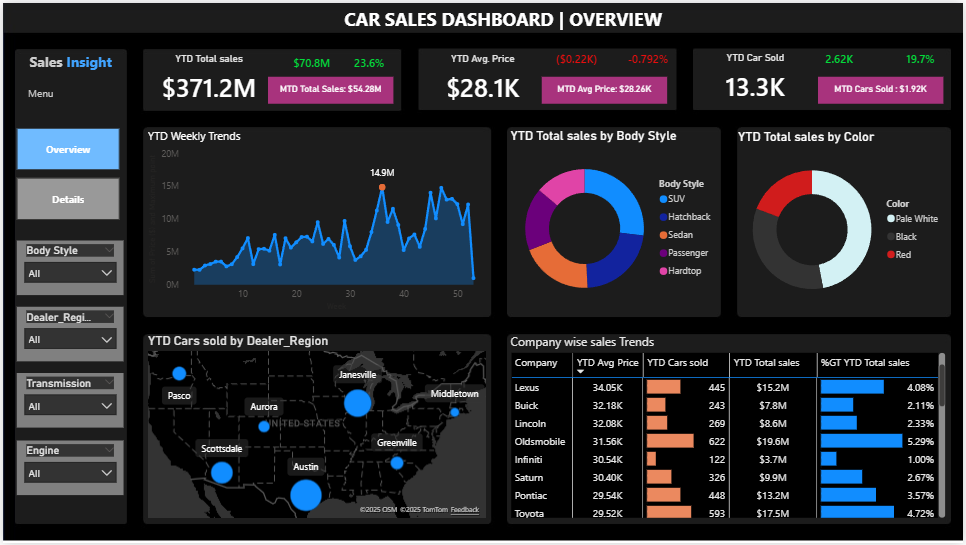

Layout of this report page (visuals, bound fields, positions):
{"tool":"powerbi","page":{"name":"Overview ","canvas":[1280,720],"ordinal":0},"visuals":[{"type":"card","title":"YTD Total sales ","fields":{"Values":["car_data.YTD Total sales"]},"box":[188,67.2,172.9,78.2],"z":0},{"type":"card","fields":{"Values":["car_data.Sales Difference"]},"box":[373.2,64.5,76.8,34.3],"z":1000},{"type":"card","fields":{"Values":["car_data.YoY sales growth"]},"box":[450.1,60.4,76.8,43.9],"z":2000},{"type":"card","fields":{"Values":["car_data.MTD kpi"]},"box":[352.7,98.8,167.4,35.7],"z":3000},{"type":"card","title":"YTD  Avg. Price","fields":{"Values":["car_data.Avg price"]},"box":[553,67.2,172.9,78.2],"z":4000},{"type":"card","fields":{"Values":["car_data.Avg Pri difference"]},"box":[725.9,60.4,76.8,34.3],"z":5000},{"type":"card","fields":{"Values":["car_data.YoY Avg Price growth"]},"box":[822,60.4,76.8,34.3],"z":6000},{"type":"card","fields":{"Values":["car_data.MTD avg Kpi"]},"box":[719,98.8,167.4,35.7],"z":7000},{"type":"card","title":"YTD  Car Sold ","fields":{"Values":["car_data.YTD Cars sold"]},"box":[916.6,64.5,172.9,78.2],"z":8000},{"type":"card","fields":{"Values":["car_data.car sold difference"]},"box":[1077.2,60.4,76.8,34.3],"z":9000},{"type":"card","fields":{"Values":["car_data.YoY car sold growth"]},"box":[1184.2,60.4,76.8,34.3],"z":10000},{"type":"card","fields":{"Values":["car_data.MTD car sold kpi"]},"box":[1086.8,98.8,167.4,35.7],"z":11000},{"type":"areaChart","title":"YTD Weekly Trends","fields":{"Category":["Calendar Table.Week"],"Y":["Sum(car_data.Price ($))","car_data.Maximum  point"]},"box":[187.7,166.9,461.4,249.1],"z":12000},{"type":"donutChart","fields":{"Category":["car_data.Body Style"],"Y":["car_data.YTD Total sales"]},"box":[671.2,166.9,285.9,249.1],"z":13000},{"type":"donutChart","fields":{"Y":["car_data.YTD Total sales"],"Category":["car_data.Color"]},"box":[975.5,168.1,285.9,249.1],"z":14000},{"type":"azureMap","fields":{"Category":["car_data.Dealer_Region"],"Size":["car_data.YTD Cars sold"]},"box":[187.5,440,461.2,251.2],"z":15000},{"type":"tableEx","title":"Company wise sales Trends","fields":{"Values":["car_data.Company","car_data.YTD Avg Price","car_data.YTD Cars sold","car_data.YTD Total sales1","car_data.YTD Total sales"]},"box":[671.2,440,590,251.2],"z":16000},{"type":"textbox","box":[450,0,470,46.2],"z":17000},{"type":"slicer","fields":{"Values":["car_data.Body Style"]},"box":[17.5,316.2,142.5,72.5],"z":18000},{"type":"slicer","fields":{"Values":["car_data.Dealer_Region"]},"box":[17.5,405,142.5,72.5],"z":19000},{"type":"slicer","fields":{"Values":["car_data.Transmission"]},"box":[17.5,493.8,142.5,72.5],"z":20000},{"type":"slicer","fields":{"Values":["car_data.Engine"]},"box":[17.5,582.5,142.5,72.5],"z":21000},{"type":"pageNavigator","box":[17.5,166.2,137.5,122.5],"z":22000},{"type":"textbox","box":[17.1,60,147.1,37.1],"z":23000},{"type":"textbox","box":[28.8,106.2,60,32.5],"z":24000}]}

Visuals, with their boxes in screenshot pixels (x1, y1, x2, y2), scaled from the page's 1280x720 canvas onto the 966x545 screenshot:
"YTD Total sales " card: BBox(142, 51, 272, 110)
card - car_data.Sales Difference: BBox(282, 49, 340, 75)
card - car_data.YoY sales growth: BBox(340, 46, 398, 79)
card - car_data.MTD kpi: BBox(266, 75, 393, 102)
"YTD  Avg. Price" card: BBox(417, 51, 548, 110)
card - car_data.Avg Pri difference: BBox(548, 46, 606, 72)
card - car_data.YoY Avg Price growth: BBox(620, 46, 678, 72)
card - car_data.MTD avg Kpi: BBox(543, 75, 669, 102)
"YTD  Car Sold " card: BBox(692, 49, 822, 108)
card - car_data.car sold difference: BBox(813, 46, 871, 72)
card - car_data.YoY car sold growth: BBox(894, 46, 952, 72)
card - car_data.MTD car sold kpi: BBox(820, 75, 947, 102)
"YTD Weekly Trends" areaChart: BBox(142, 126, 490, 315)
donutChart - car_data.Body Style x car_data.YTD Total sales: BBox(507, 126, 722, 315)
donutChart - car_data.YTD Total sales x car_data.Color: BBox(736, 127, 952, 316)
azureMap - car_data.Dealer_Region x car_data.YTD Cars sold: BBox(142, 333, 490, 523)
"Company wise sales Trends" tableEx: BBox(507, 333, 952, 523)
textbox: BBox(340, 0, 694, 35)
slicer - car_data.Body Style: BBox(13, 239, 121, 294)
slicer - car_data.Dealer_Region: BBox(13, 307, 121, 361)
slicer - car_data.Transmission: BBox(13, 374, 121, 429)
slicer - car_data.Engine: BBox(13, 441, 121, 496)
pageNavigator: BBox(13, 126, 117, 219)
textbox: BBox(13, 45, 124, 73)
textbox: BBox(22, 80, 67, 105)
